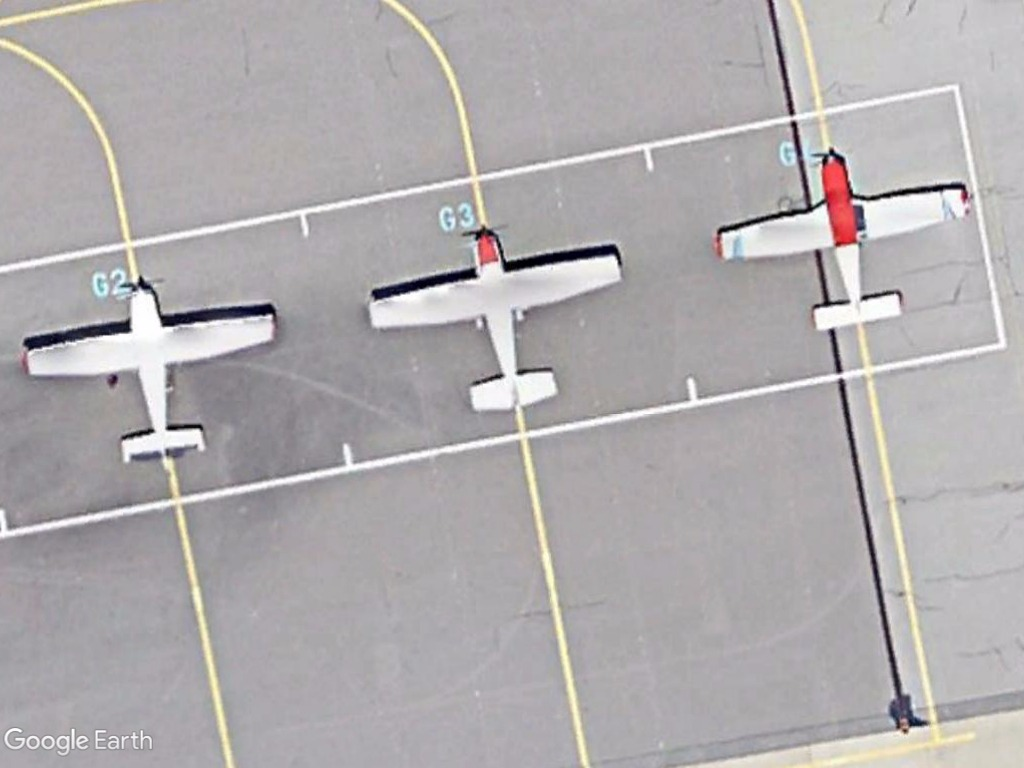trainer: (703, 140, 979, 340), (21, 277, 287, 480), (361, 226, 628, 419)
